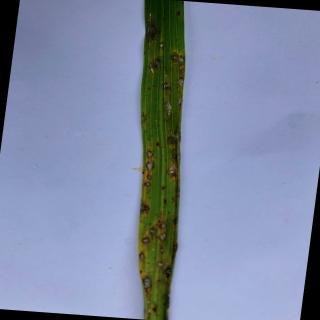Blast: (146, 20, 160, 42), (141, 276, 154, 294), (165, 163, 178, 180), (161, 264, 174, 280), (148, 59, 161, 73), (162, 80, 173, 94), (140, 202, 150, 217), (175, 54, 186, 67), (145, 161, 156, 173), (158, 231, 168, 244), (145, 147, 155, 160), (139, 251, 149, 263), (148, 226, 158, 238), (176, 76, 184, 91), (141, 235, 152, 245), (158, 221, 168, 232), (144, 180, 152, 190), (146, 173, 154, 182), (147, 307, 154, 317), (159, 247, 166, 256), (146, 297, 153, 306), (158, 41, 164, 51), (157, 260, 164, 268)
